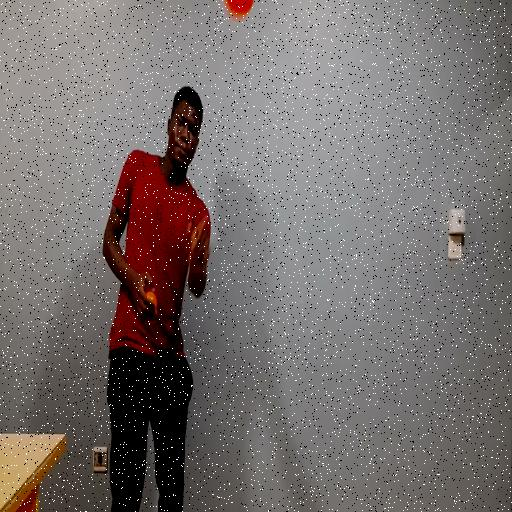plastic-ball: (225, 0, 252, 18)
